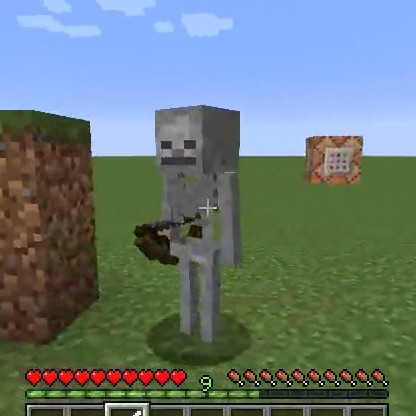skeleton: (140, 101, 254, 250)
